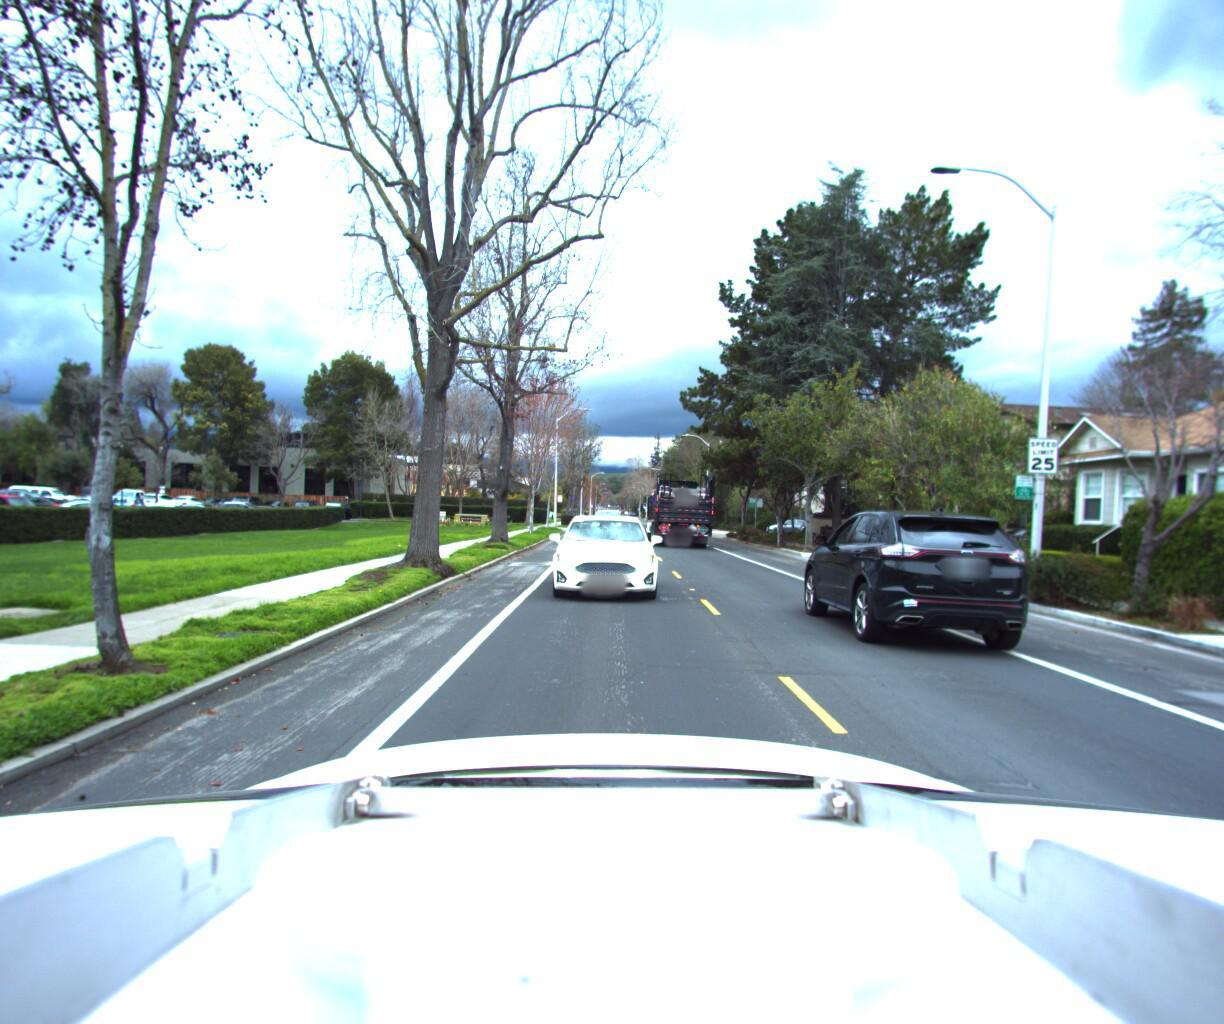car: (787, 511, 1018, 651), (543, 513, 658, 608), (766, 520, 821, 536), (593, 513, 625, 539)
truck: (642, 474, 717, 551)
